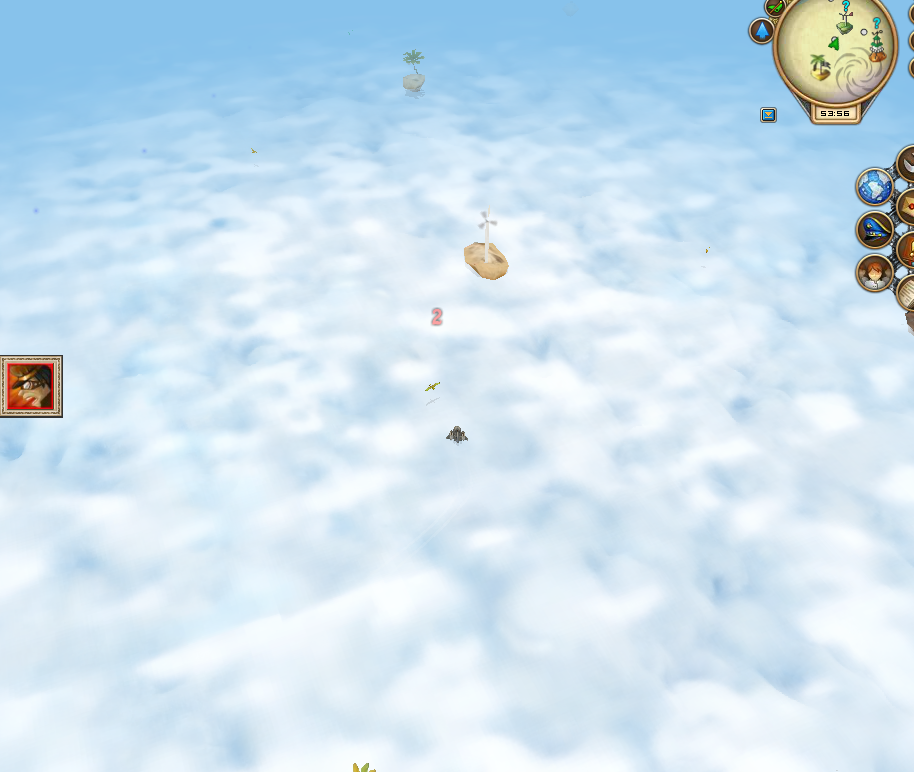palm: (395, 46, 428, 98)
